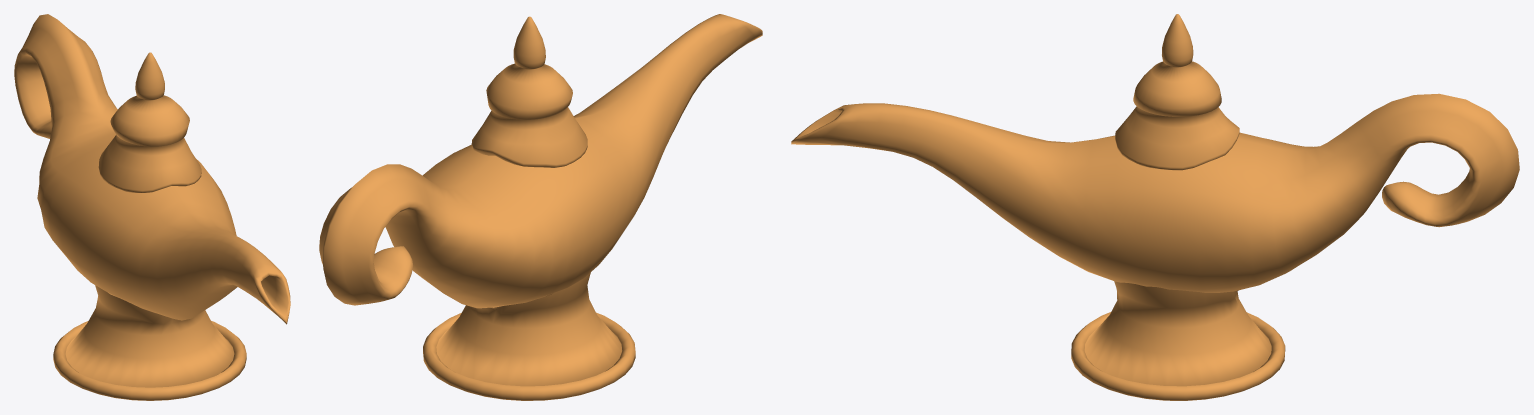
File: Aladdin_lamp.fbx
3 renders of one model, left to right at view 1: azimuth 30°, elevation 25°; view 2: azimuth 150°, elevation 25°; view 3: azimuth 270°, elevation 25°, orthographic. The views are drawn at different scales.
Visible parts, largest first — view 1: Circle; view 2: Circle; view 3: Circle.
Part boxes in pixels (x1,y1,x2,y2): Circle: (14, 14, 290, 400); Circle: (319, 14, 762, 400); Circle: (791, 14, 1519, 400).
Size of the model in its own units: 256 by 454 by 871.
